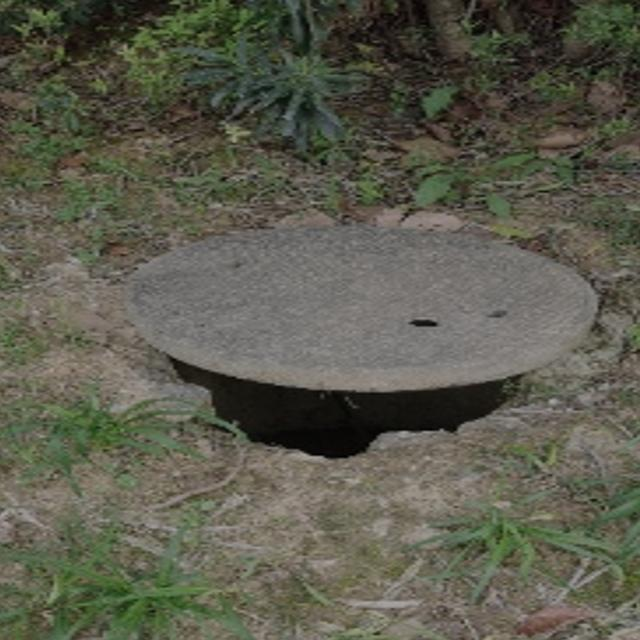broke: (116, 222, 598, 396)
